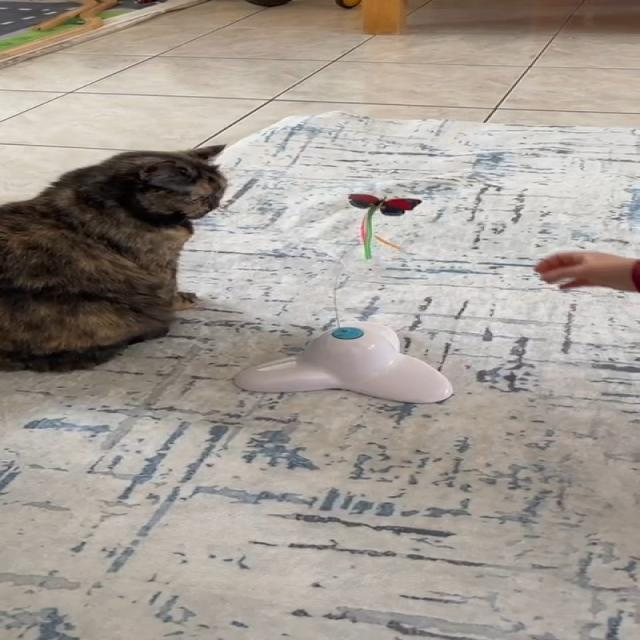authorized: (0, 143, 228, 373)
